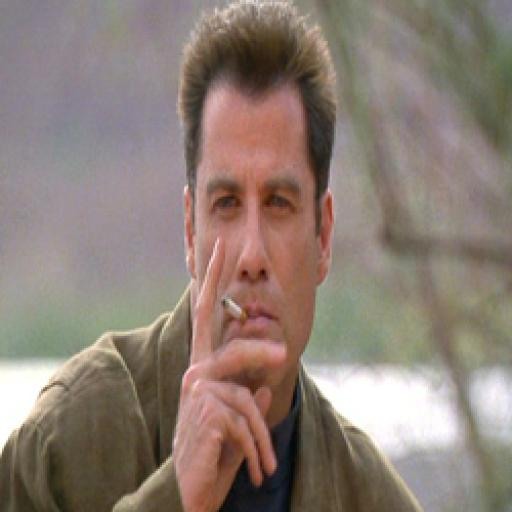terdeteksi merokok: (185, 196, 300, 379)
